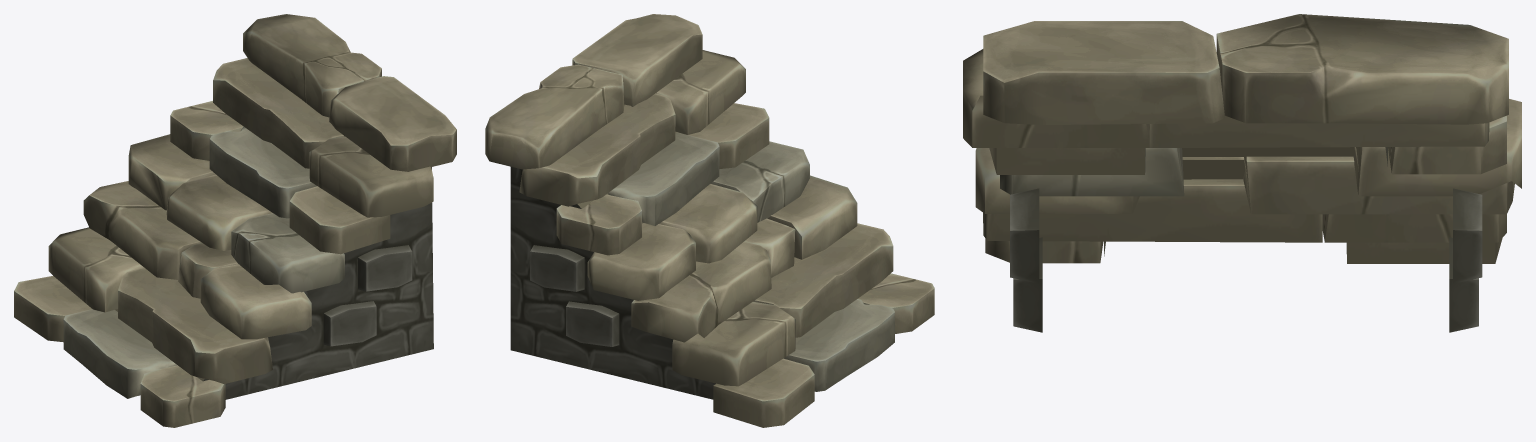
The model's file is Stairs_1.fbx.
3 renders of one model, left to right at view 1: azimuth 30°, elevation 25°; view 2: azimuth 150°, elevation 25°; view 3: azimuth 270°, elevation 25°, orthographic. The views are drawn at different scales.
Parts seen in each view (by area): view 1: polySurface655; view 2: polySurface655; view 3: polySurface655.
Boxes of the visible parts, x1,y1,x2,y2 form: polySurface655: (14, 14, 456, 427); polySurface655: (485, 14, 934, 427); polySurface655: (963, 14, 1521, 332).
Bounding box in the file's own units: 149 × 113 × 150.
Materials: 1 (1 with a texture image).
